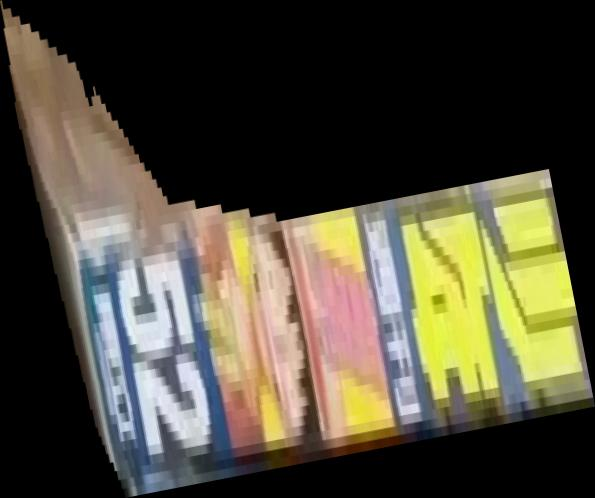flat: (1, 1, 595, 498)
